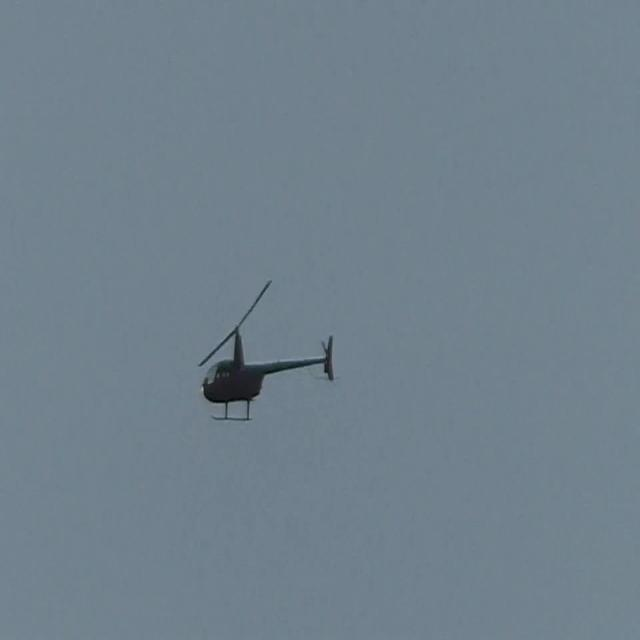CIV_HELO: (199, 322, 335, 423)
